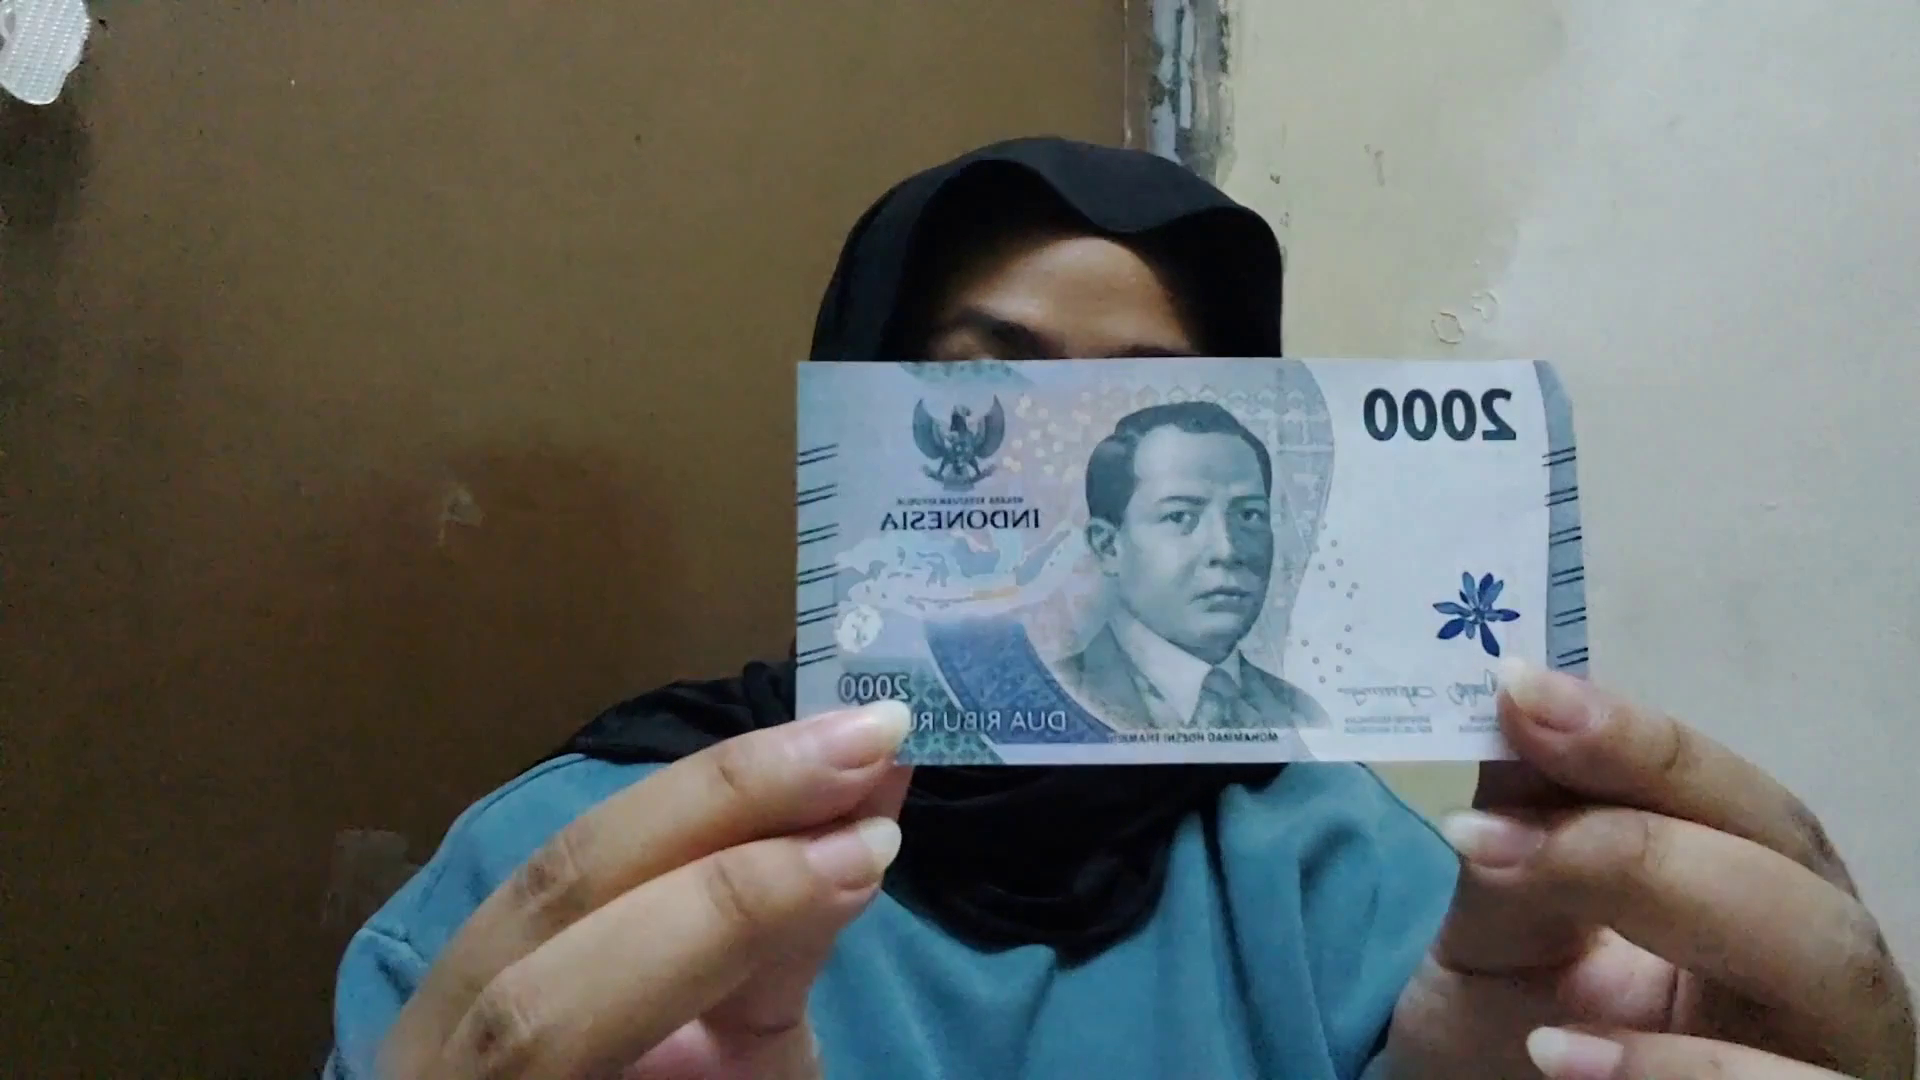2k: (802, 364, 1584, 771)
